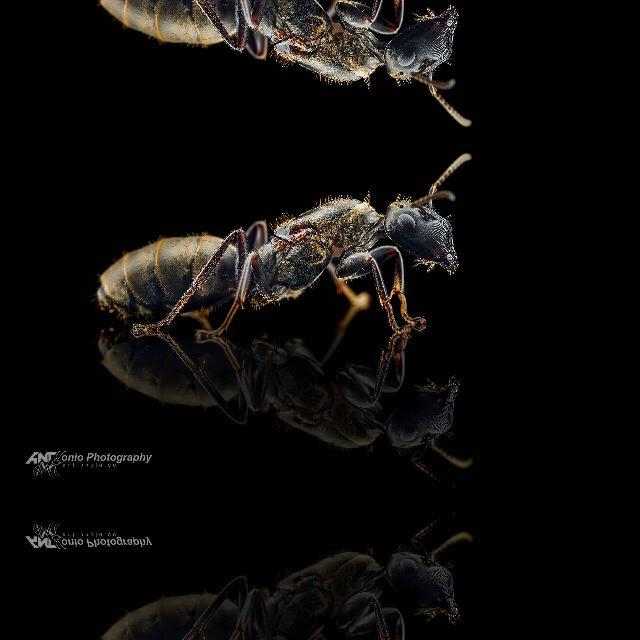Colobopsis: (72, 173, 480, 347), (99, 322, 483, 468), (70, 0, 479, 106), (99, 532, 483, 640)
